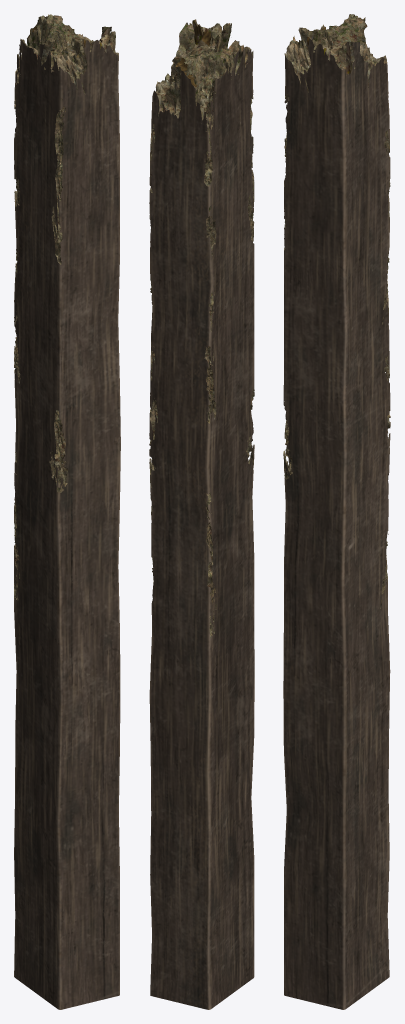
File: SM_WoodenBroken_02.fbx
3 views of the same model, side by side, from view 1: azimuth 30°, elevation 25°; view 2: azimuth 150°, elevation 25°; view 3: azimuth 330°, elevation 25° (orthographic).
Parts seen in each view (by area): view 1: SM_WoodenBroken_02_LOD0; view 2: SM_WoodenBroken_02_LOD0; view 3: SM_WoodenBroken_02_LOD0.
Part boxes in pixels (<box>): SM_WoodenBroken_02_LOD0: <box>14,14,120,1009</box>; SM_WoodenBroken_02_LOD0: <box>149,19,254,1009</box>; SM_WoodenBroken_02_LOD0: <box>283,14,390,1009</box>.
Size of the model in its own units: 66.84 by 87.79 by 978.
